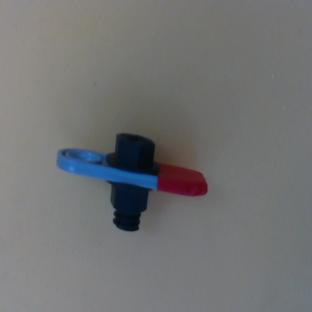part_1_good: (48, 91, 213, 255)
